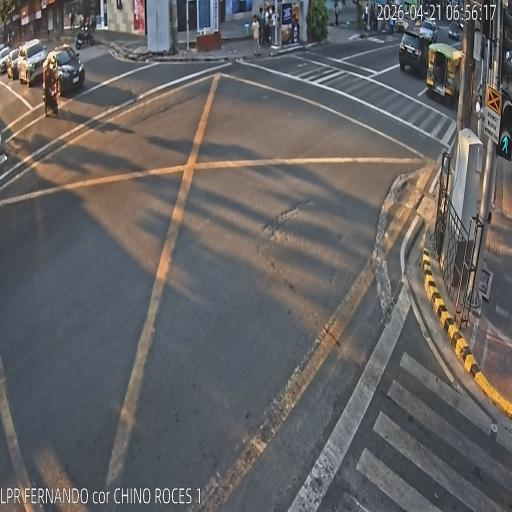Car: (53, 40, 90, 103), (396, 26, 427, 79), (18, 38, 44, 90), (3, 50, 20, 78), (0, 46, 10, 74), (0, 134, 7, 168)
Motor: (42, 50, 59, 116)
